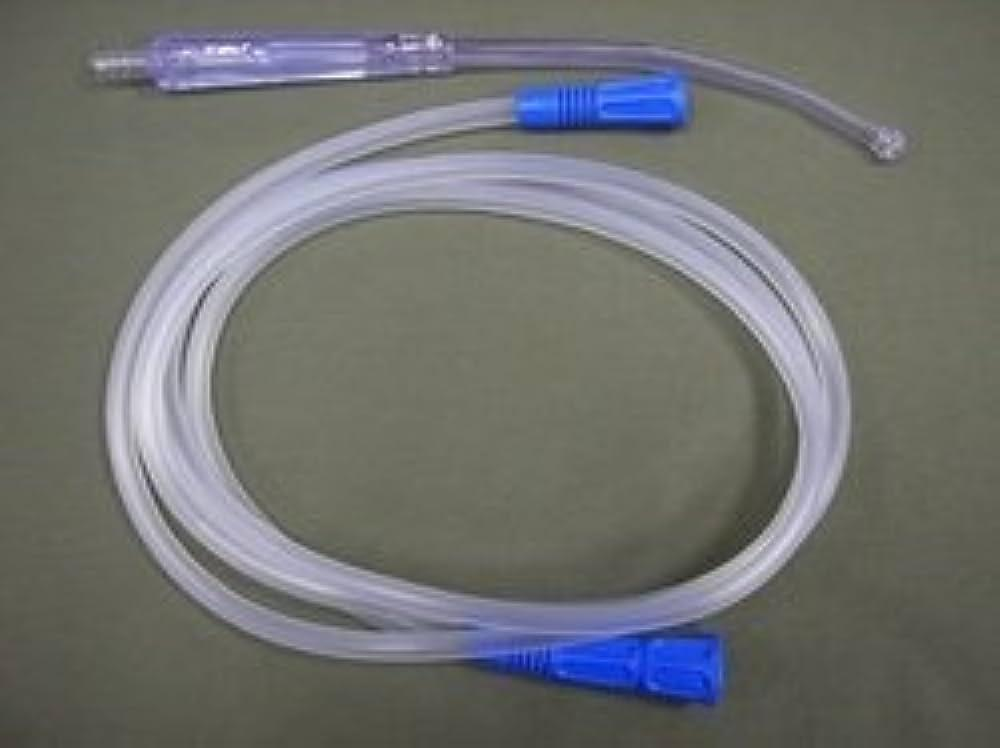Suction Tube Nozzle: (61, 14, 931, 721)
